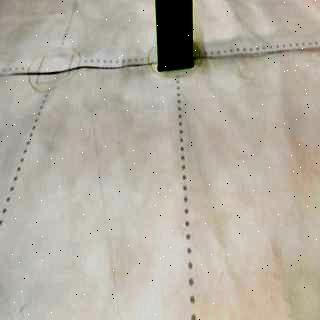greenbox: (156, 0, 194, 70)
